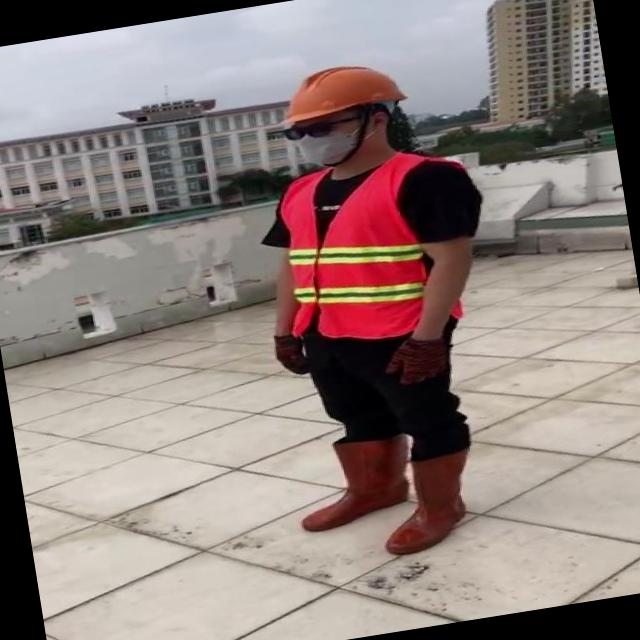boots: (290, 432, 416, 536), (374, 451, 484, 557)
gloves: (378, 304, 460, 402), (266, 320, 312, 388)
helmet: (272, 51, 414, 130)
vest: (272, 148, 468, 350)
